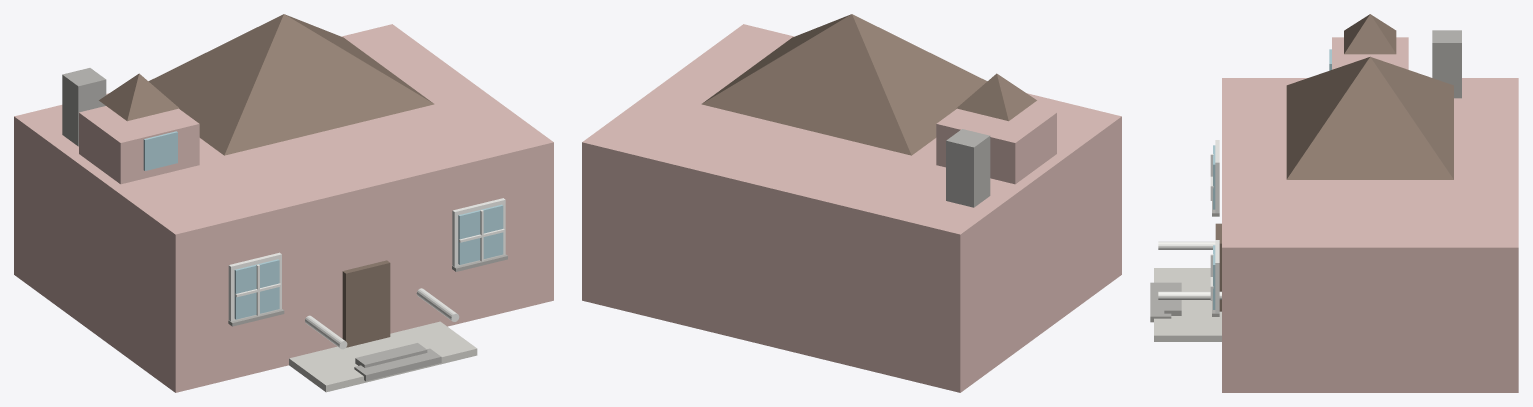
File: house_rose.glb
3 views of the same model, side by side, from view 1: azimuth 30°, elevation 25°; view 2: azimuth 150°, elevation 25°; view 3: azimuth 270°, elevation 25° (orthographic). The views are drawn at different scales.
Parts seen in each view (by area): view 1: part_00, part_01, part_19, part_03, part_02, part_18, part_10, part_05, part_20, part_16, part_21, part_09 (+4 smaller); view 2: part_00, part_01, part_19, part_18, part_20; view 3: part_00, part_01, part_03, part_20, part_18, part_19, part_16, part_14, part_15, part_17, part_04, part_09.
Boxes of the visible parts, x1,y1,x2,y2 form: part_00: (14, 24, 553, 392); part_01: (148, 14, 434, 155); part_19: (79, 106, 199, 184); part_03: (289, 321, 477, 392); part_02: (342, 260, 390, 347); part_18: (62, 68, 106, 146); part_10: (458, 204, 503, 264); part_05: (234, 259, 279, 319); part_20: (99, 73, 179, 121); part_16: (354, 348, 441, 381); part_21: (143, 131, 177, 170); part_09: (452, 198, 505, 266); part_00: (582, 24, 1121, 392); part_01: (701, 14, 987, 155); part_19: (936, 106, 1056, 184); part_18: (946, 129, 990, 207); part_20: (956, 73, 1036, 121); part_00: (1222, 78, 1518, 392); part_01: (1286, 56, 1453, 179); part_03: (1154, 268, 1221, 341); part_20: (1344, 14, 1396, 54); part_18: (1432, 30, 1461, 98); part_19: (1332, 37, 1408, 69); part_16: (1150, 282, 1171, 322); part_14: (1158, 241, 1215, 249); part_15: (1158, 291, 1221, 299); part_17: (1164, 282, 1181, 315); part_04: (1215, 140, 1219, 213); part_09: (1215, 240, 1219, 313).
Size of the model in its own units: 11.5 by 7.95 by 10.55.
